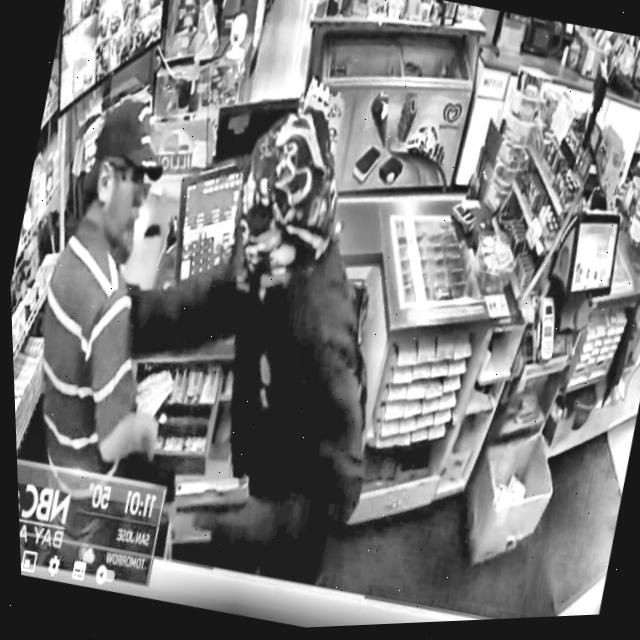robbery: (1, 11, 457, 535)
